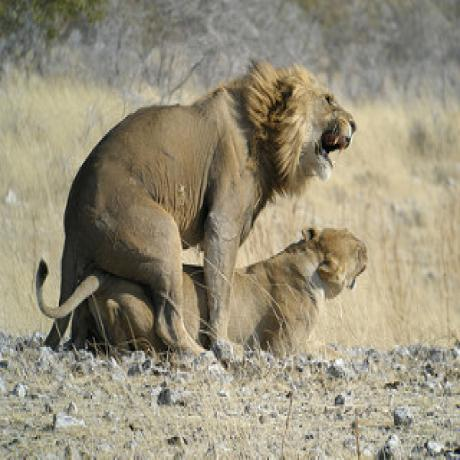Lion: (43, 63, 356, 350), (33, 231, 376, 357)
